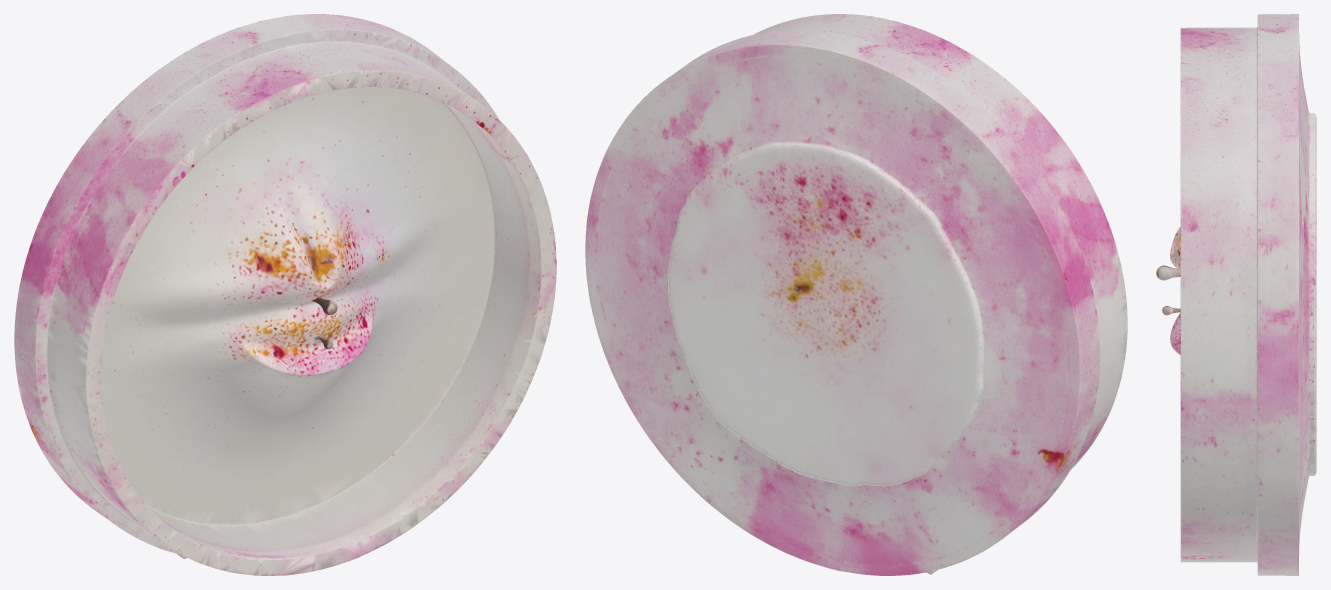
The model's file is Kyss.glb.
The picture shows the model from 3 angles, left to right: view 1: azimuth 30°, elevation 25°; view 2: azimuth 150°, elevation 25°; view 3: azimuth 270°, elevation 25°; orthographic projection.
Visible parts, largest first — view 1: Mesh_0; view 2: Mesh_0; view 3: Mesh_0.
Boxes of the visible parts, x1,y1,x2,y2 form: Mesh_0: [14, 14, 556, 575]; Mesh_0: [585, 14, 1127, 575]; Mesh_0: [1156, 14, 1316, 575].
Size of the model in its own units: 0.06 by 0.06 by 0.0171.
1 material, 1 textured.
